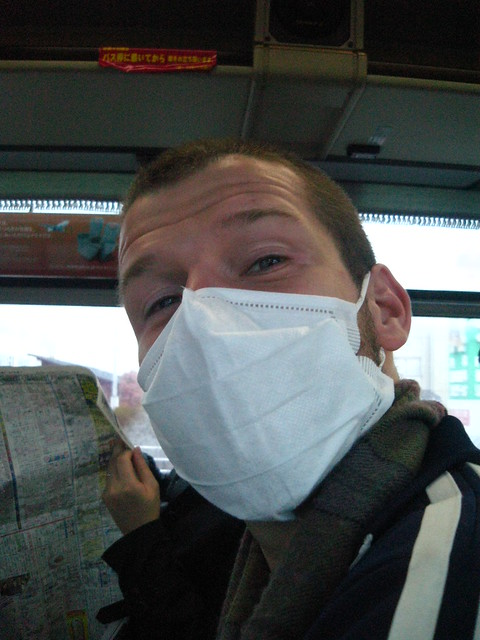mask: (110, 310, 401, 520)
